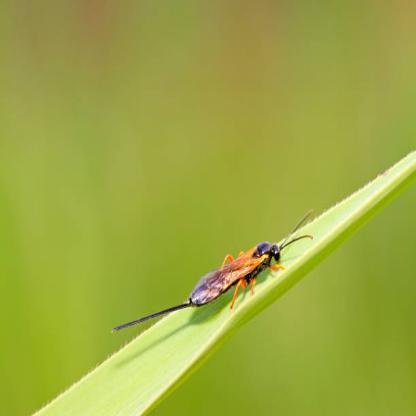sawfly: (111, 191, 342, 352)
